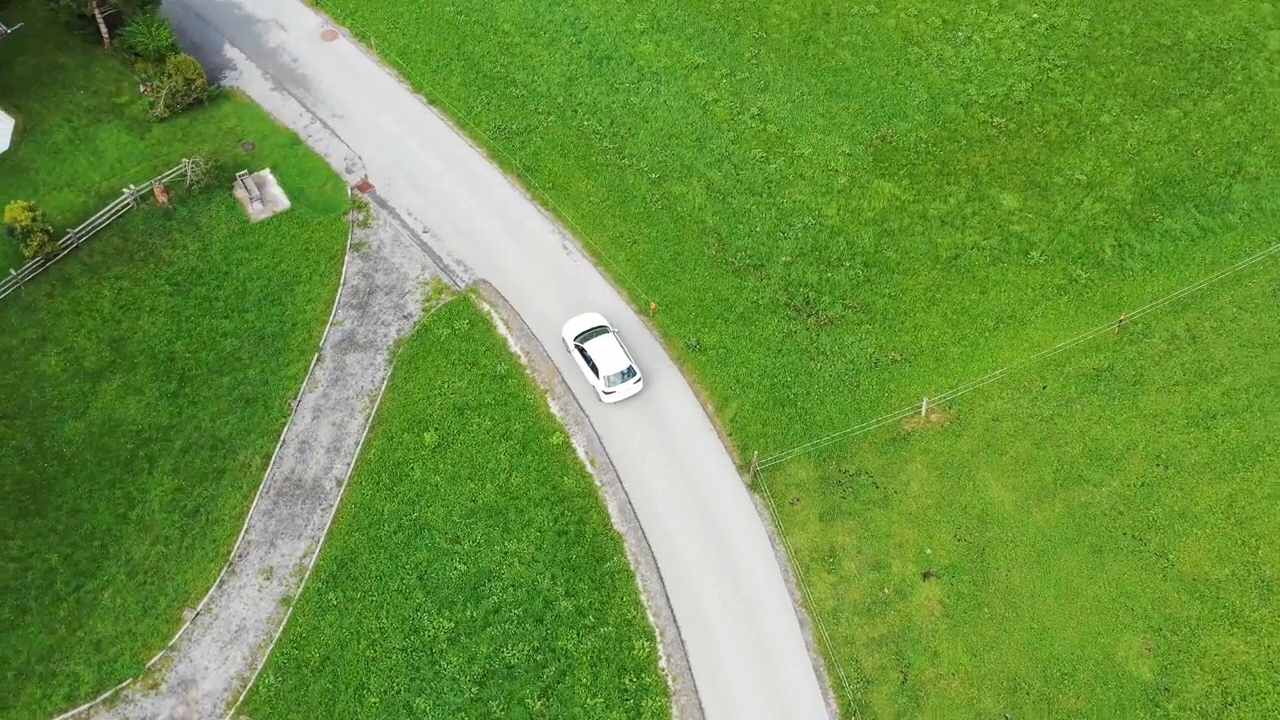araba: (559, 312, 648, 404)
